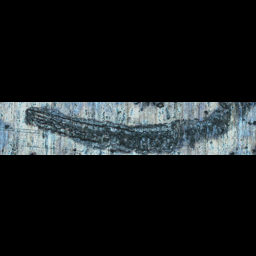d: (21, 103, 251, 154)
